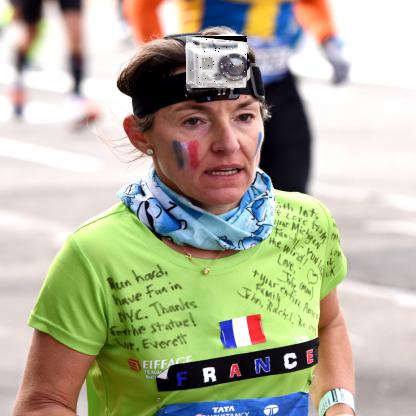Camera: (188, 37, 250, 90)
